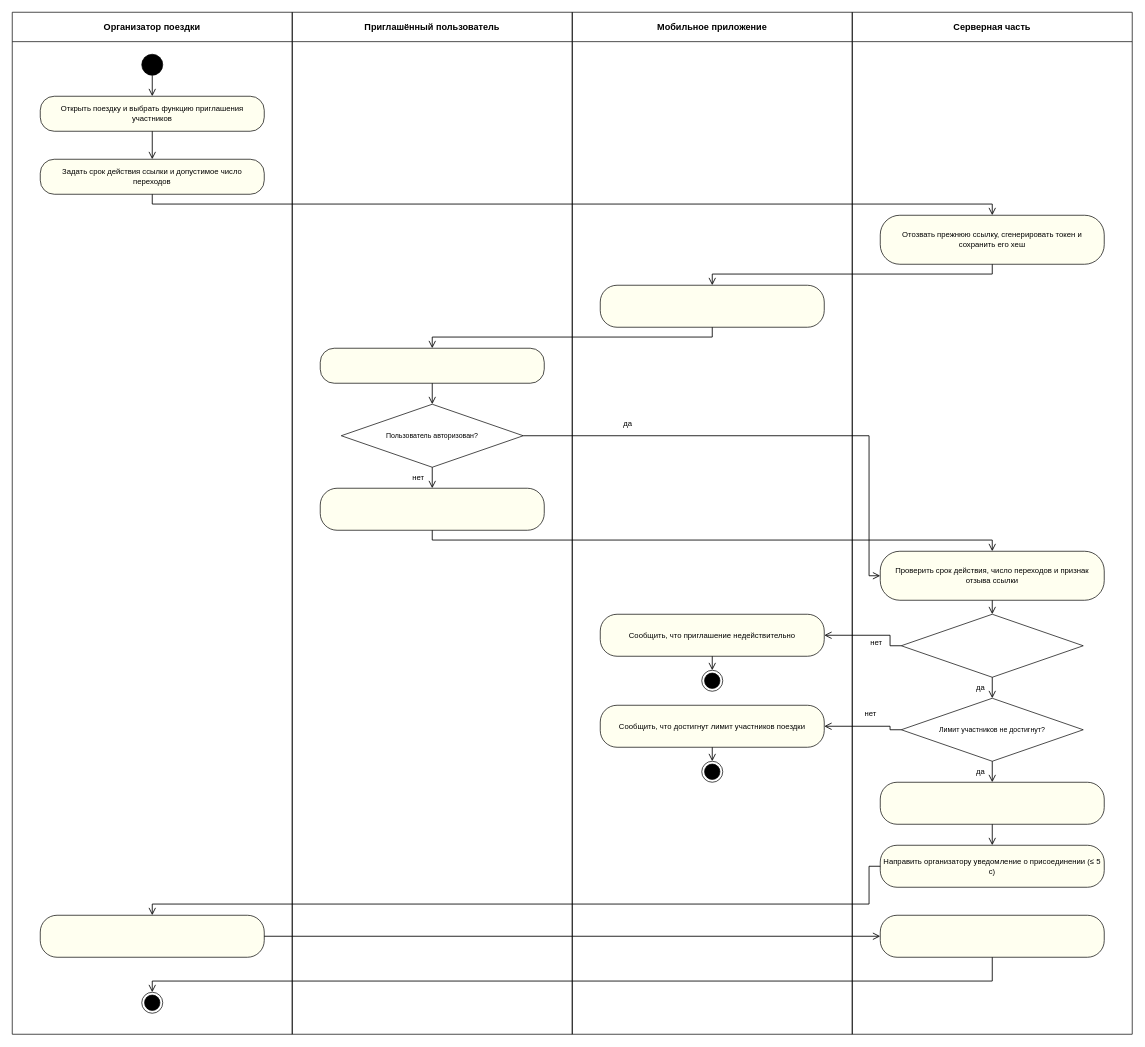
Image size: 1145x1047. Some labels were removed from this diagram. Here are the shapes that lost their labels. From the top down, the centre of each, then its label:
point 712,306: Показать ссылку-приглашение для передачи внешним каналом
point 432,365: Перейти по полученной ссылке-приглашению
point 432,509: Войти в аккаунт по одноразовому коду с адреса почты
point 992,645: Приглашение действительно?
point 992,803: Добавить участника с ролью наблюдателя и записать переход
point 152,936: Изменить роль участника на «редактор» (при необходимости)
point 992,936: Изменить роль и разослать событие участникам сессии
